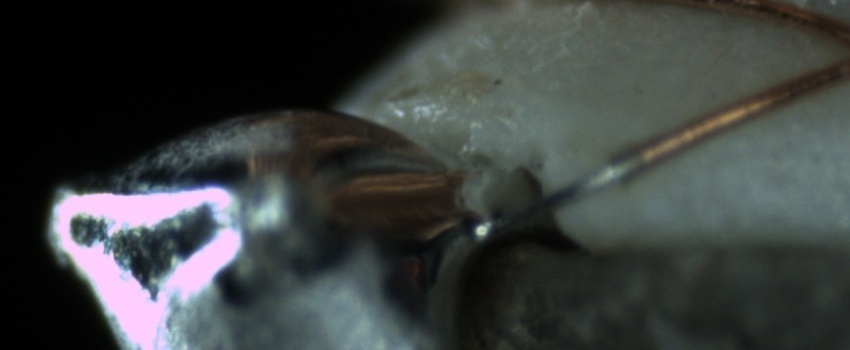CL: (832, 20, 850, 79)
DL: (701, 124, 850, 185)
TS: (468, 154, 641, 238)
TTCW: (467, 131, 672, 240)
